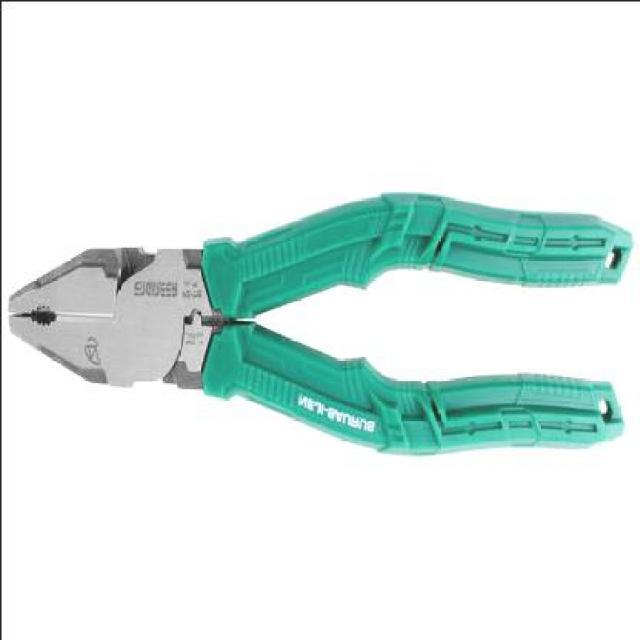pliers: (8, 191, 630, 457)
